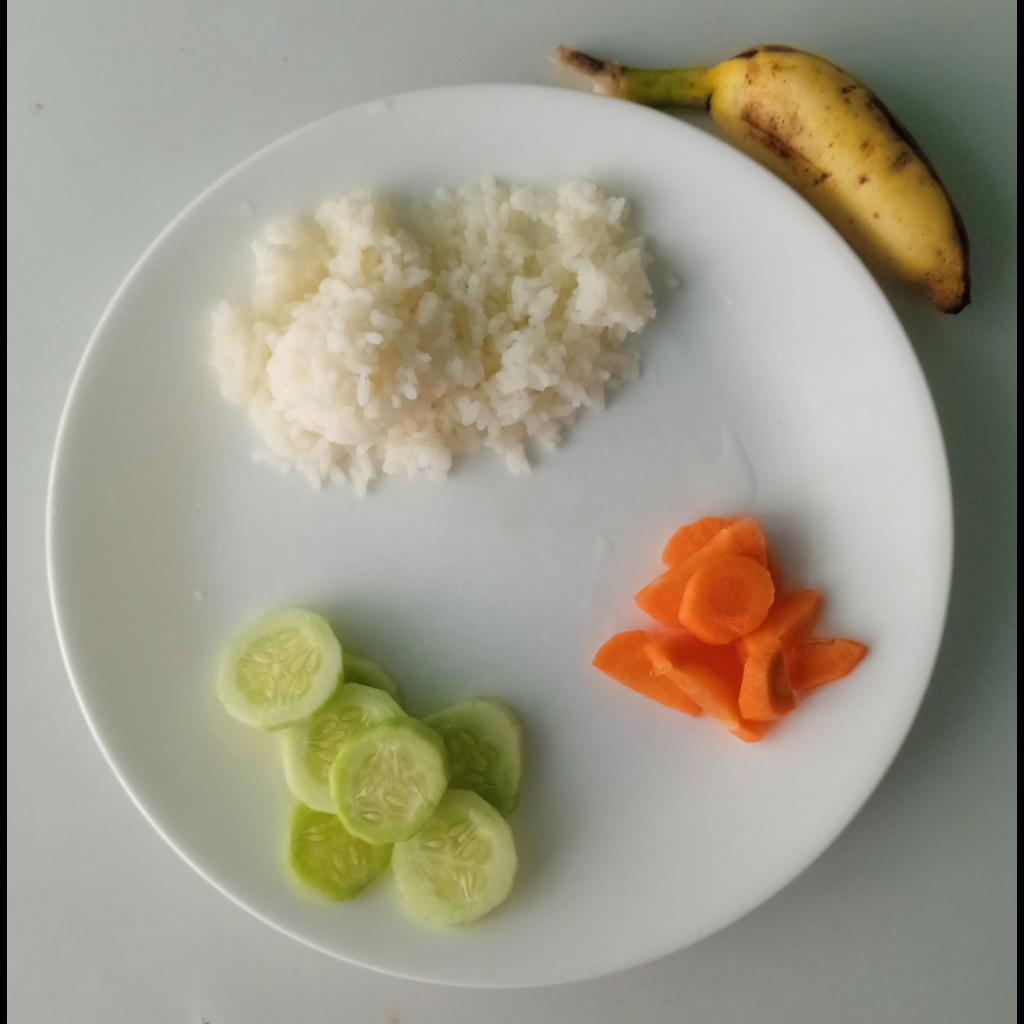banana: (621, 43, 971, 316)
carrot: (589, 515, 870, 745)
cucumber: (211, 605, 526, 927)
rice: (212, 177, 661, 495)
